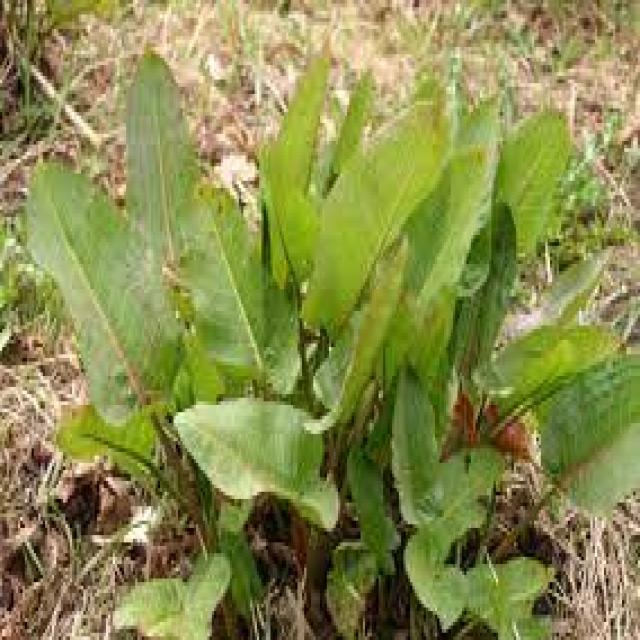organic waste: (31, 40, 640, 640)
